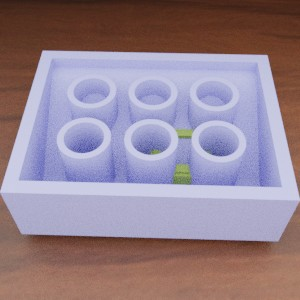lego: (0, 50, 300, 241), (149, 128, 213, 201)
